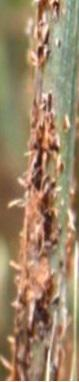Wheat: (7, 258, 71, 375), (29, 92, 68, 245), (26, 0, 63, 70)
